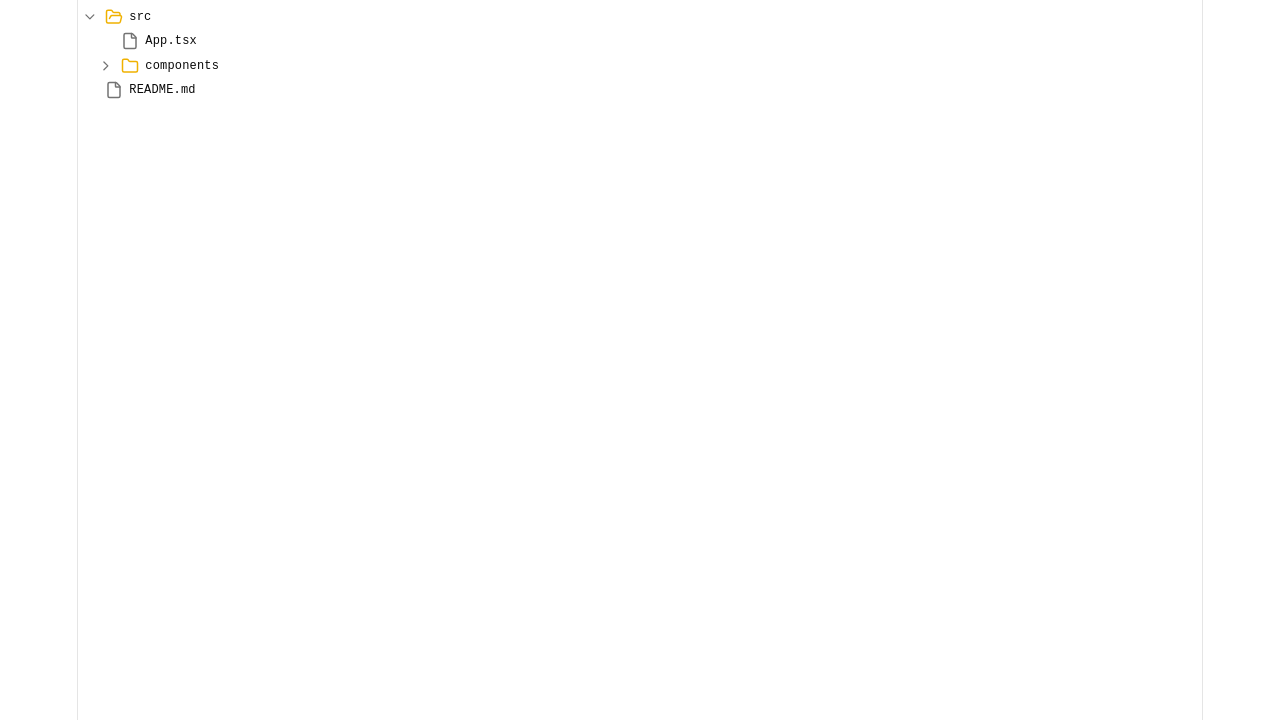
Test: FileTree › nested folders expand independently
Expected: the text "button.tsx" is not shown
# open components
Click the text "components".
click(182, 66)  # box x1=145 y1=56 x2=219 y2=76
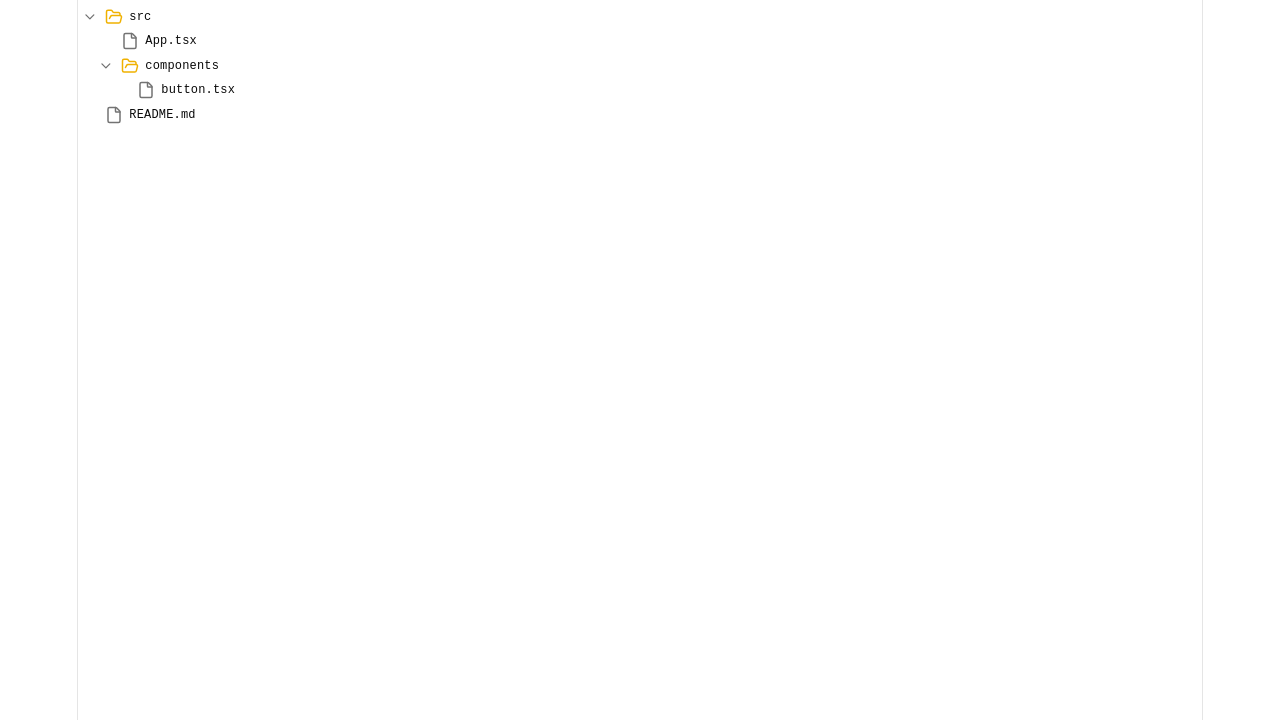
Result: the text "button.tsx" is shown at x1=161 y1=80 x2=235 y2=100
